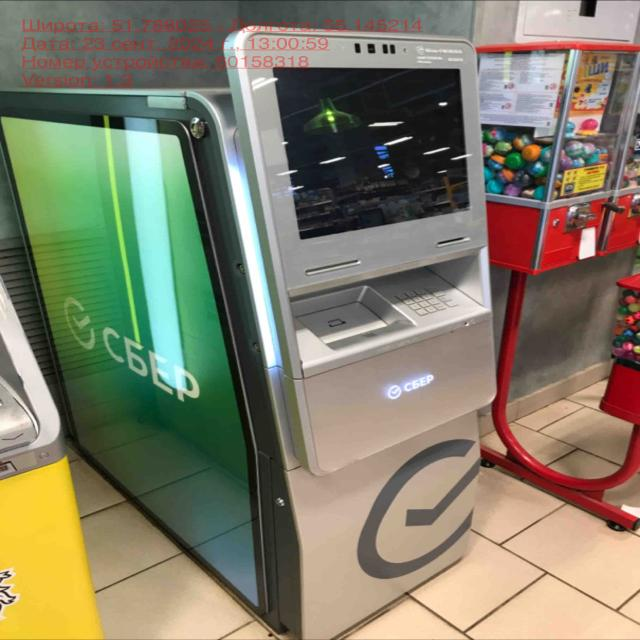bank: (0, 29, 503, 640)
